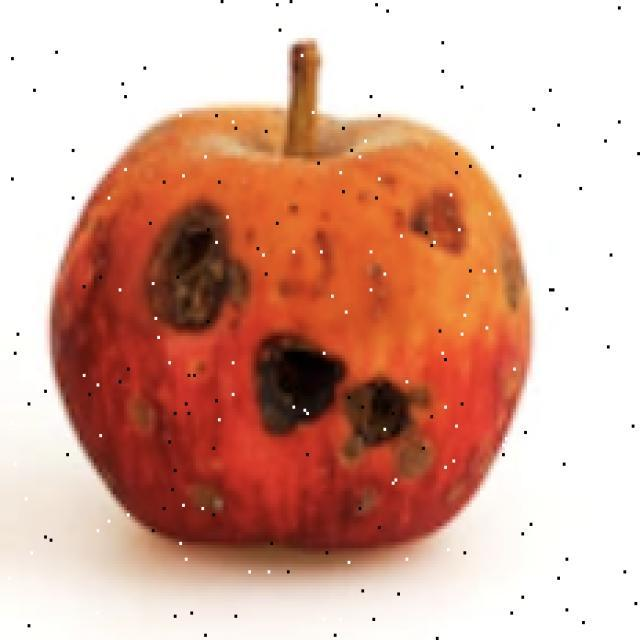Rotten: (63, 95, 527, 592)
